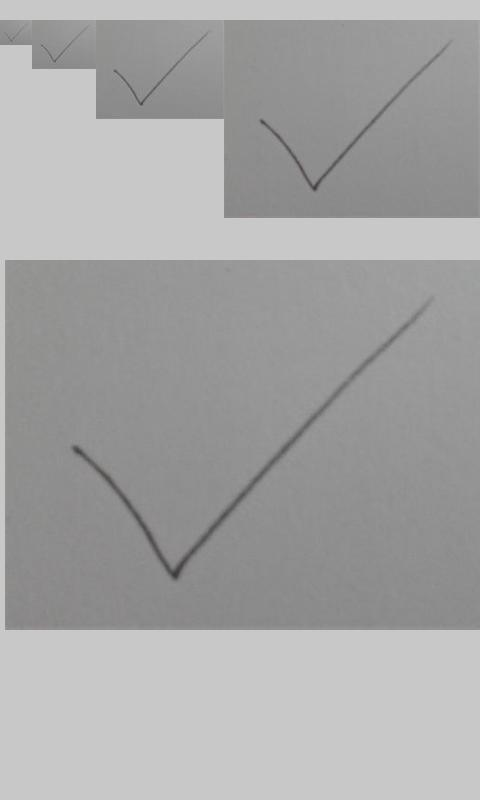check_box: (75, 296, 430, 580), (259, 42, 449, 191), (113, 32, 204, 107), (41, 28, 85, 63), (4, 23, 27, 42)
